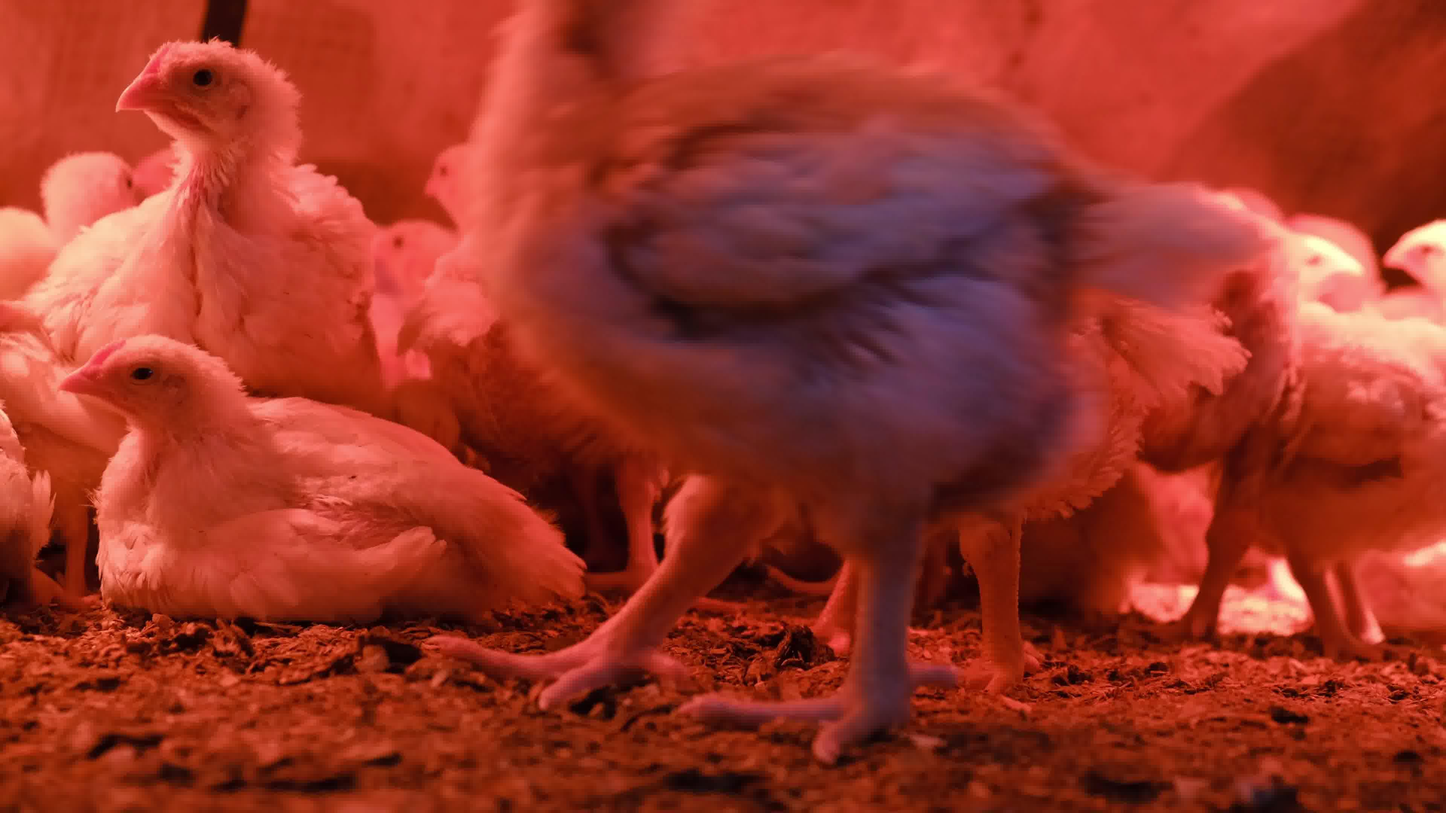AbNormal: (57, 335, 587, 619), (0, 303, 52, 616)
Normal: (432, 0, 1225, 762), (34, 38, 398, 390), (1143, 289, 1443, 655), (432, 240, 723, 606), (0, 204, 106, 584), (356, 211, 436, 324), (48, 151, 132, 244), (1280, 234, 1364, 304), (1382, 217, 1446, 298)
